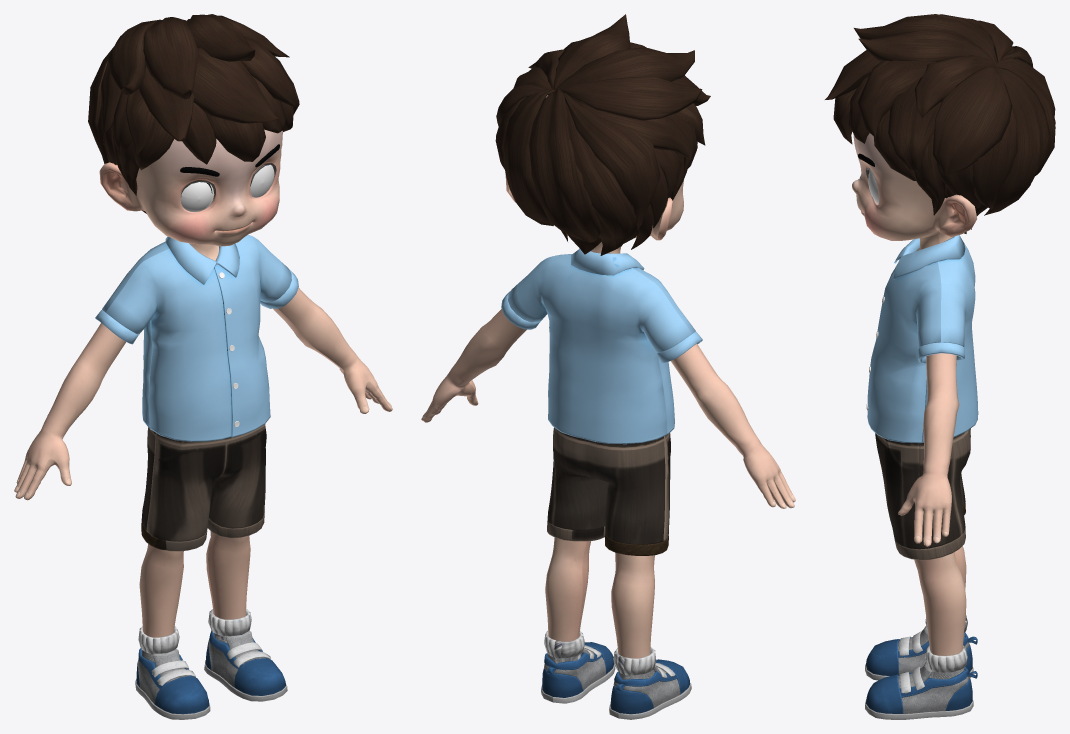
Rendered from boy_color.fbx.
The picture shows the model from 3 angles, left to right: view 1: azimuth 30°, elevation 25°; view 2: azimuth 150°, elevation 25°; view 3: azimuth 270°, elevation 25°; orthographic projection.
Visible parts, largest first — view 1: 002_0_2, 001_0_1, 005_0_5, 000_0_0, 008_0_8, 009_0_9, 014_0_14; view 2: 005_0_5, 001_0_1, 002_0_2, 000_0_0, 008_0_8, 009_0_9; view 3: 005_0_5, 002_0_2, 001_0_1, 008_0_8, 000_0_0, 009_0_9.
Part boxes in pixels (x1=…): 002_0_2: x1=14, y1=129, x2=392, y2=637; 001_0_1: x1=95, y1=235, x2=298, y2=441; 005_0_5: x1=88, y1=14, x2=299, y2=213; 000_0_0: x1=141, y1=424, x2=266, y2=551; 008_0_8: x1=135, y1=630, x2=287, y2=719; 009_0_9: x1=138, y1=609, x2=251, y2=661; 014_0_14: x1=180, y1=182, x2=211, y2=211; 005_0_5: x1=495, y1=14, x2=710, y2=255; 001_0_1: x1=501, y1=248, x2=702, y2=444; 002_0_2: x1=421, y1=95, x2=795, y2=658; 000_0_0: x1=547, y1=427, x2=670, y2=555; 008_0_8: x1=541, y1=642, x2=691, y2=719; 009_0_9: x1=544, y1=630, x2=656, y2=679; 005_0_5: x1=825, y1=14, x2=1055, y2=233; 002_0_2: x1=852, y1=133, x2=977, y2=655; 001_0_1: x1=867, y1=235, x2=978, y2=443; 008_0_8: x1=865, y1=625, x2=977, y2=719; 000_0_0: x1=875, y1=428, x2=970, y2=560; 009_0_9: x1=925, y1=615, x2=967, y2=679.
Size of the model in its own units: 7.7 by 12.97 by 4.1.
